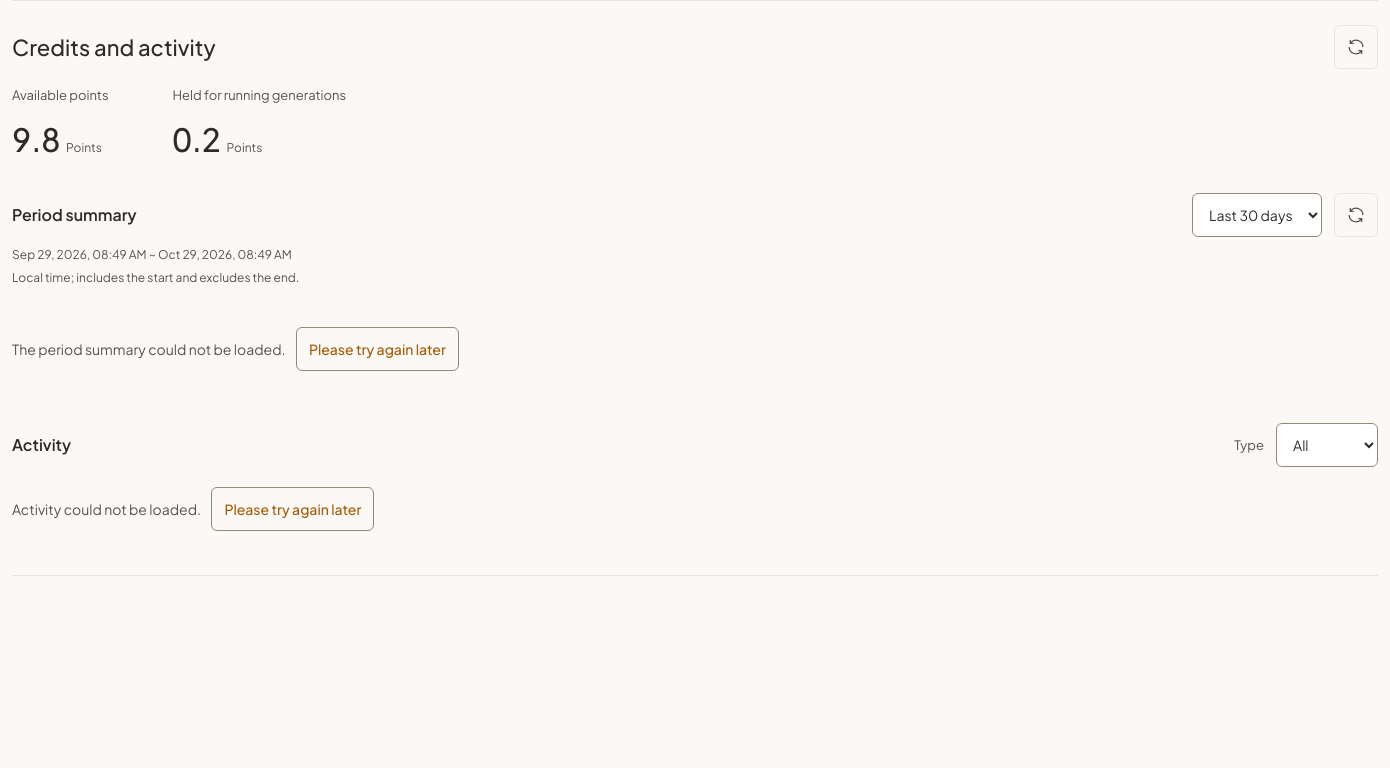
Scenario: account activity › retries summary and ledger independently
Expected: the number of messages is 2, [12, 327, 459, 371]; [12, 487, 374, 531]
Click the button "Please try again later" next to "The period summary could not be loaded.".
click(377, 349)  # box [296, 327, 459, 371]
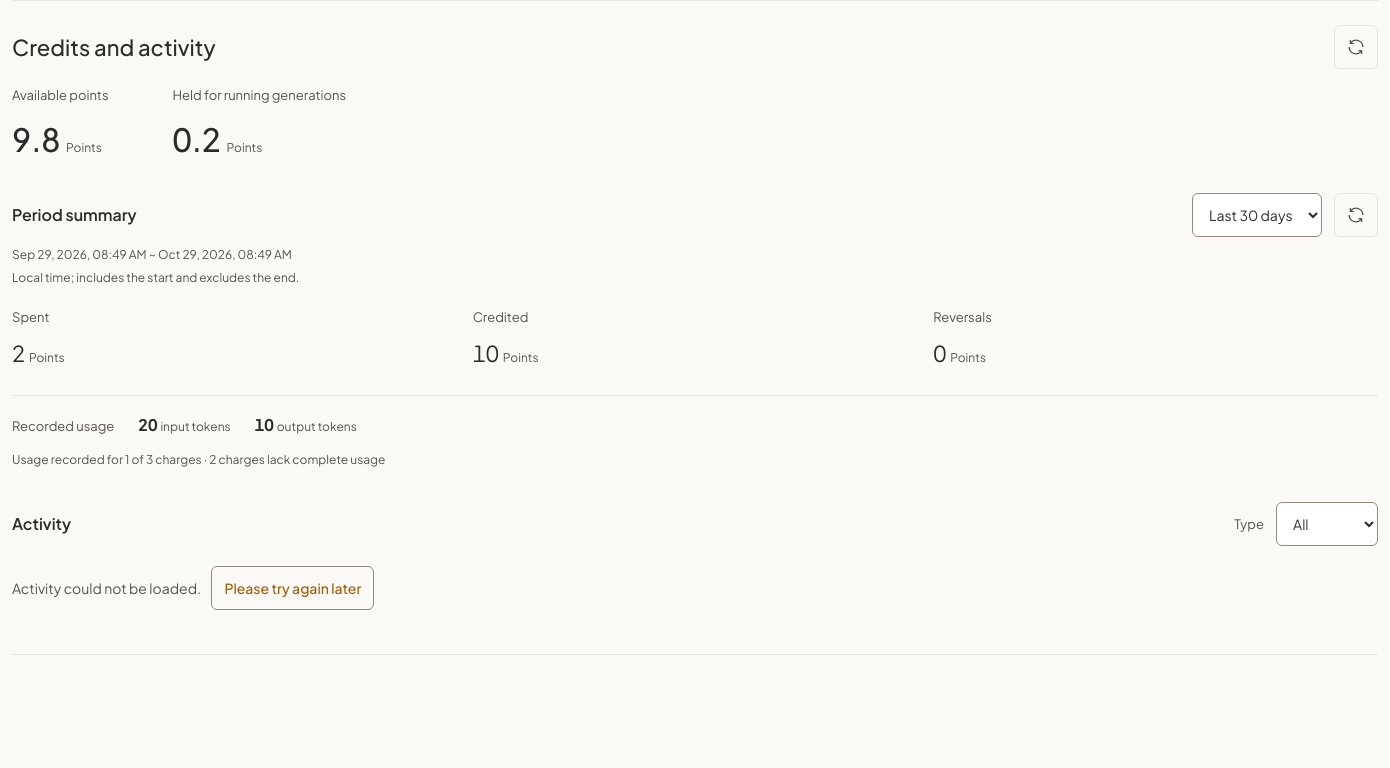
Now the element with test id "recorded-usage" shows "1 of 3", box [12, 452, 202, 467]
Click the button "Please try again later".
click(293, 588)  # box [211, 566, 374, 610]
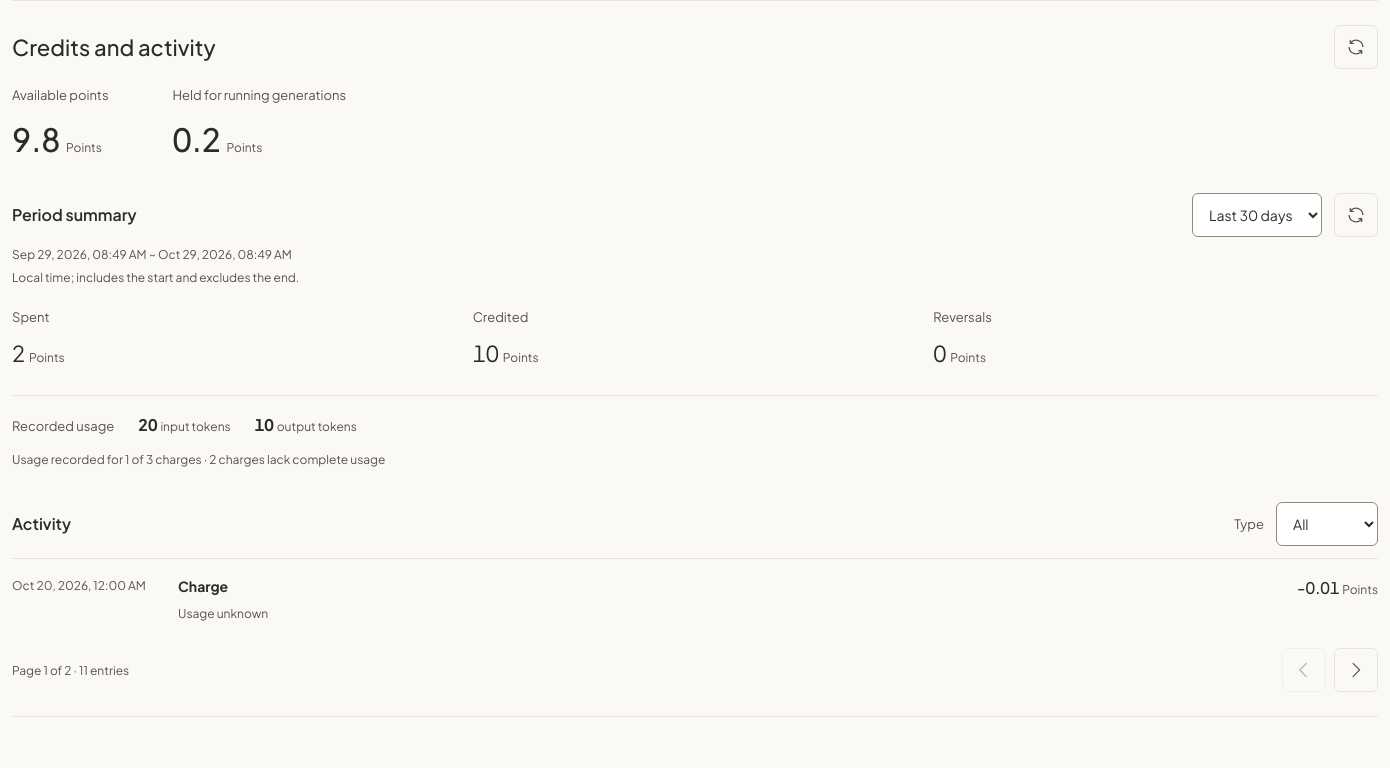
Now no messages are shown
